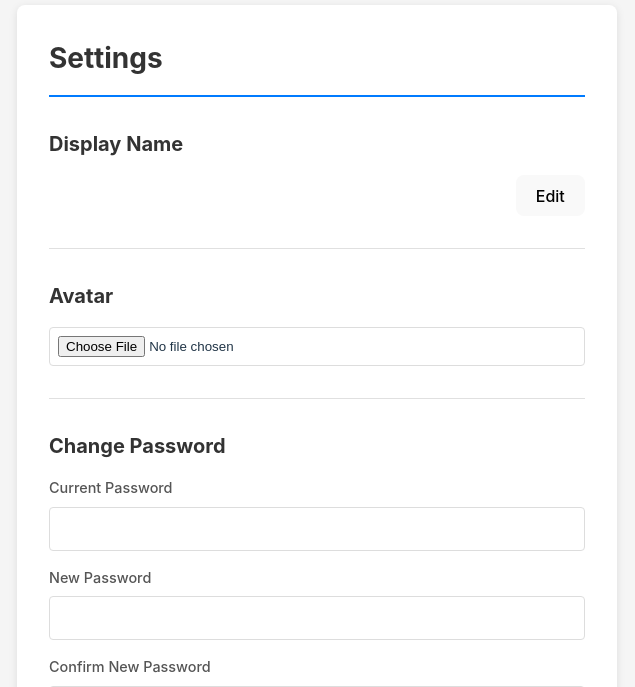
Test: UserConfigurationPage › 12.4.1: Display name inline editor with uniqueness error › should enter edit mode when Edit button is clicked
The image size is (635, 687).
Click the button "Edit".
click(550, 196)  # box [516, 175, 585, 216]
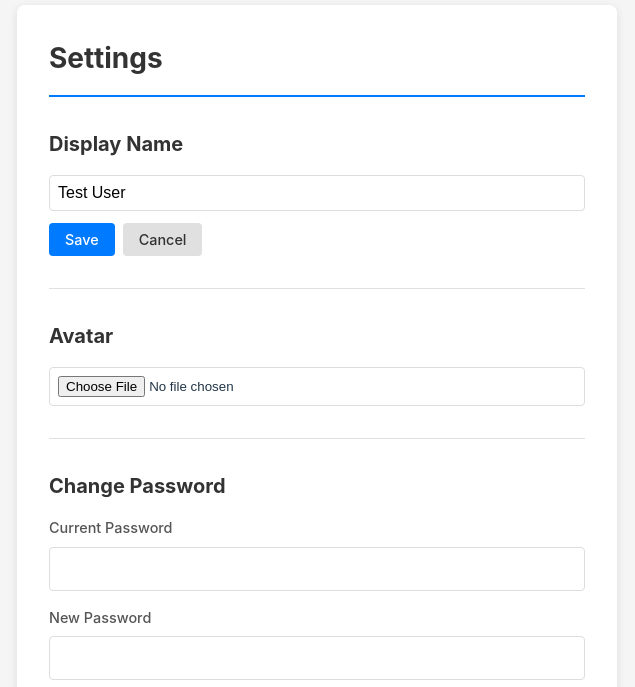
Expected: the field showing "Test User" is shown, [49, 175, 585, 211]
